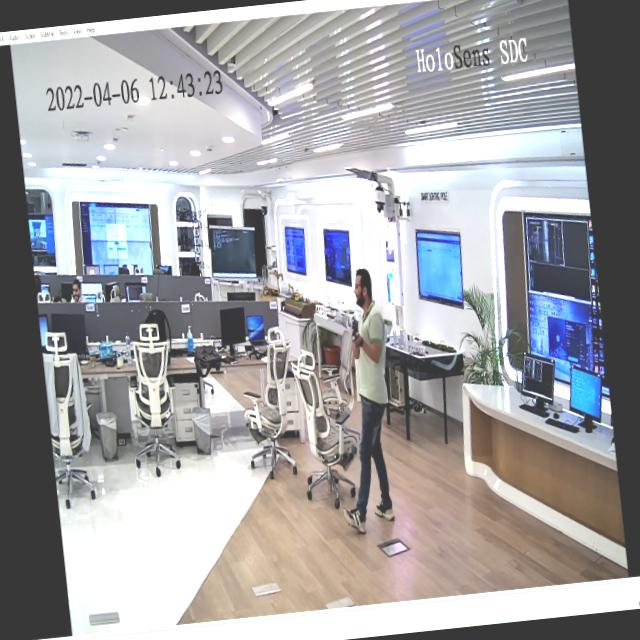long weapon: (348, 316, 362, 359)
